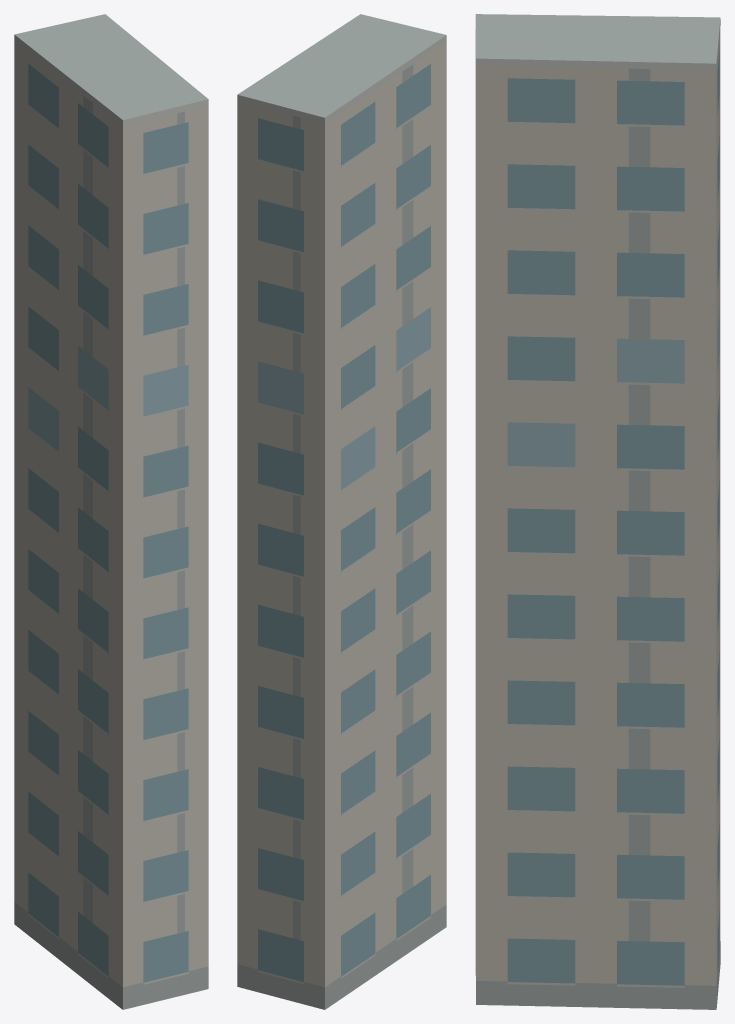
Rendered from survey-upis-32696910.glb.
The picture shows the model from 3 angles, left to right: view 1: azimuth 30°, elevation 25°; view 2: azimuth 150°, elevation 25°; view 3: azimuth 270°, elevation 25°; orthographic projection. The views are drawn at different scales.
Visible parts, largest first — view 1: survey-upis-32696910.tmp; view 2: survey-upis-32696910.tmp; view 3: survey-upis-32696910.tmp.
Part boxes in pixels (x1,y1,x2,y2): survey-upis-32696910.tmp: (14, 14, 208, 1009); survey-upis-32696910.tmp: (237, 14, 446, 1009); survey-upis-32696910.tmp: (475, 14, 720, 1009).
Size of the model in its own units: 3.78 by 33.55 by 7.88.
